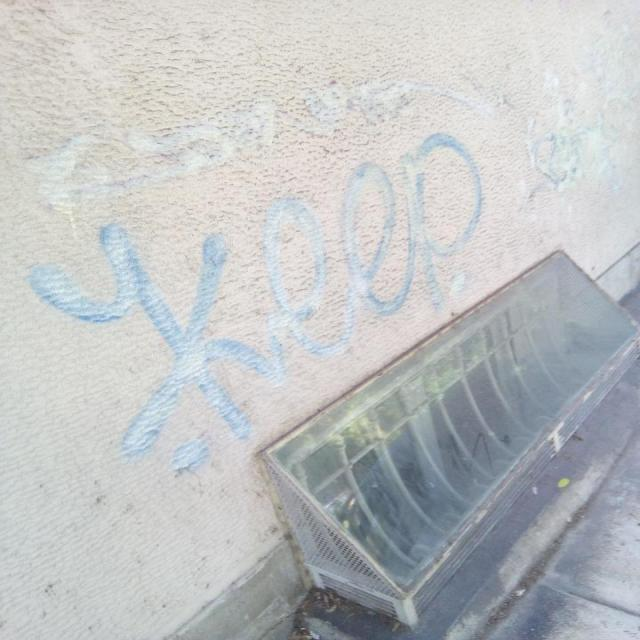nonspitting: (30, 131, 484, 477)
